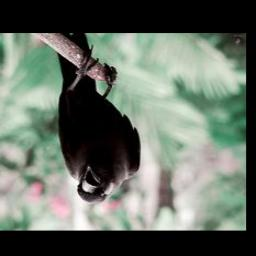Crow: (55, 35, 141, 205)
